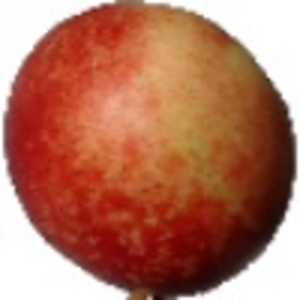nectarina: (2, 1, 299, 300)
